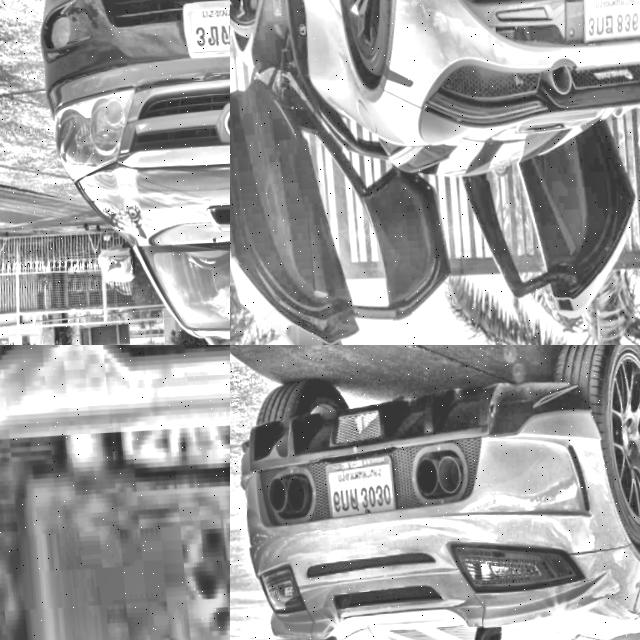license-plate: (0, 401, 230, 640), (324, 453, 395, 522), (575, 0, 640, 48), (180, 0, 230, 61)
